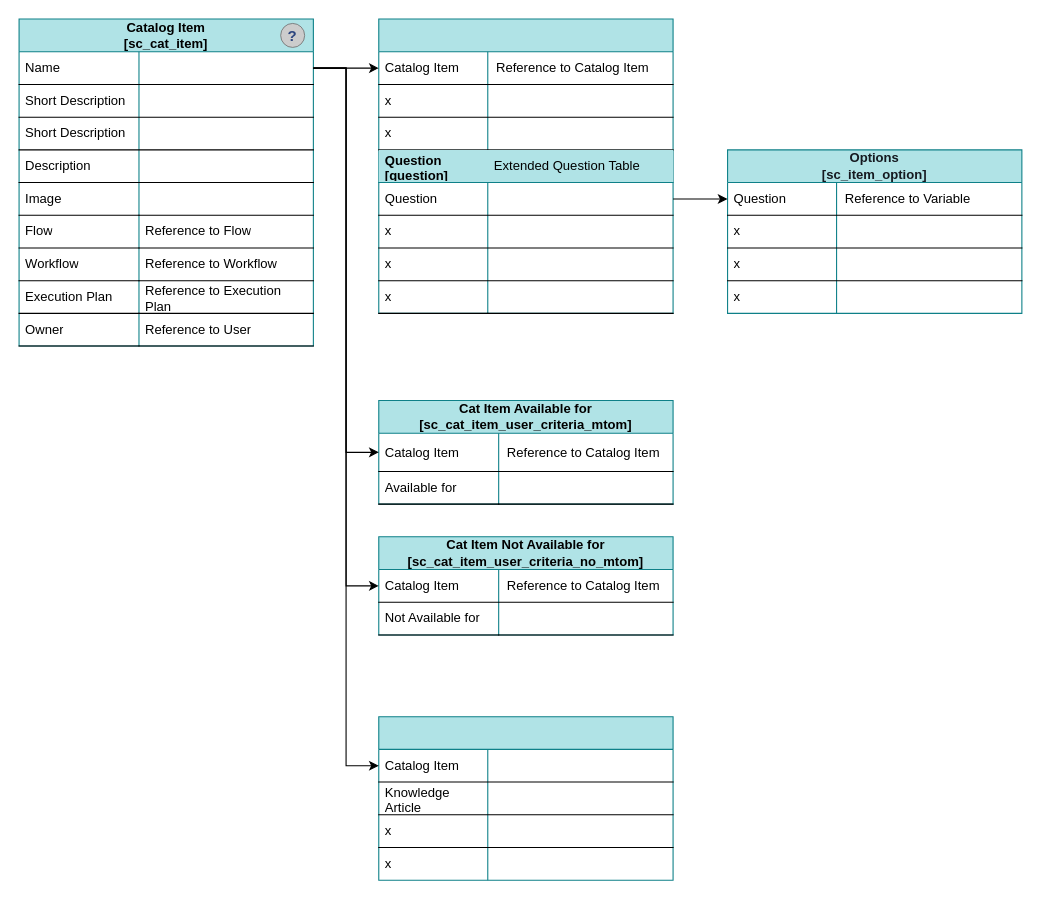
The diagram is 1041 pixels wide and 899 high, and some of its shapes have lost their labels. Here are the shapes that lost their labels. From the top down, the box of each, then its label:
(378, 18, 673, 313): Variable [ item_option_new]
(378, 716, 673, 880): Related Articles [sc_2_kb]
